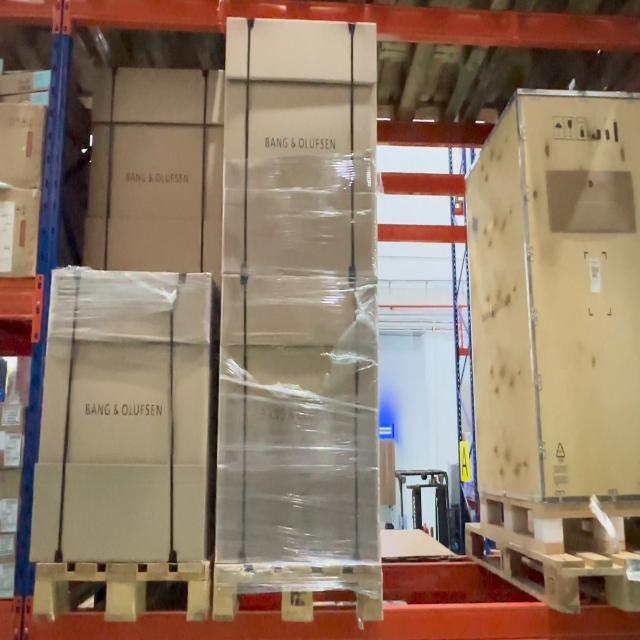box: (54, 270, 202, 558), (222, 287, 377, 559), (228, 19, 377, 282), (95, 67, 222, 273)
